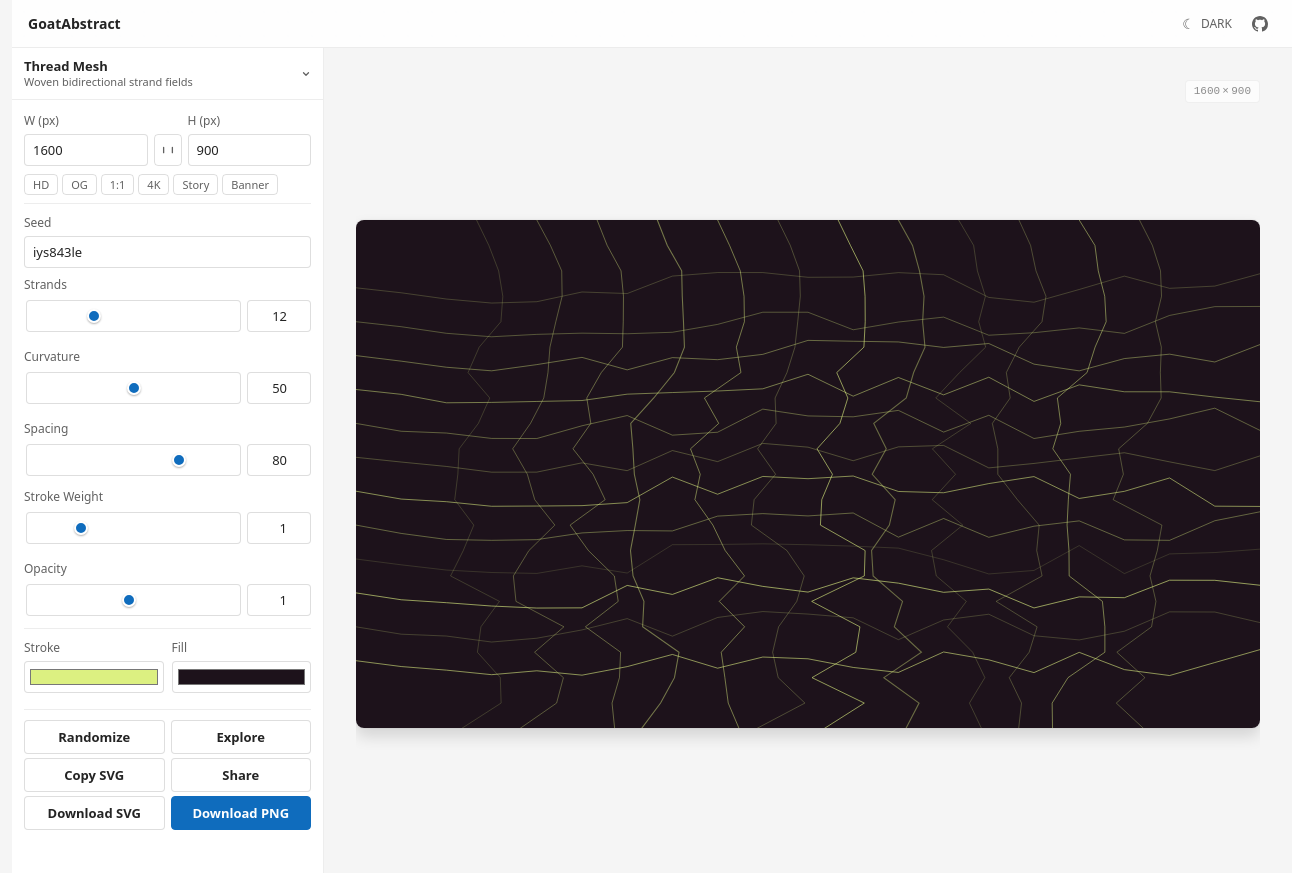
Test: App › switches mode via the dropdown menu
Step 1. Click the button with aria-label "art mode" → [168, 74], box [12,48,323,99]
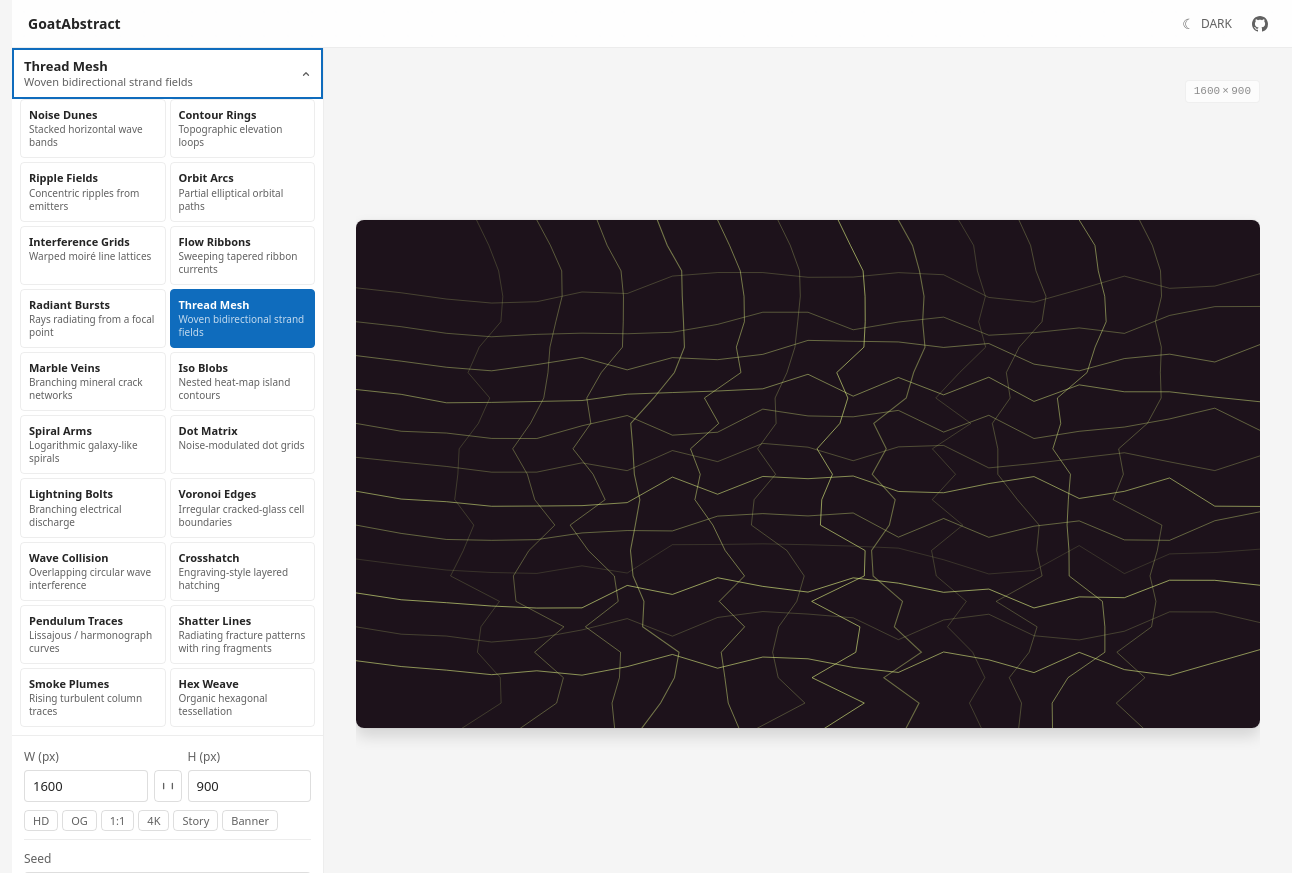
Step 2. Click the option "Contour Rings Topographic elevation loops" → [242, 129], box [170,99,315,158]
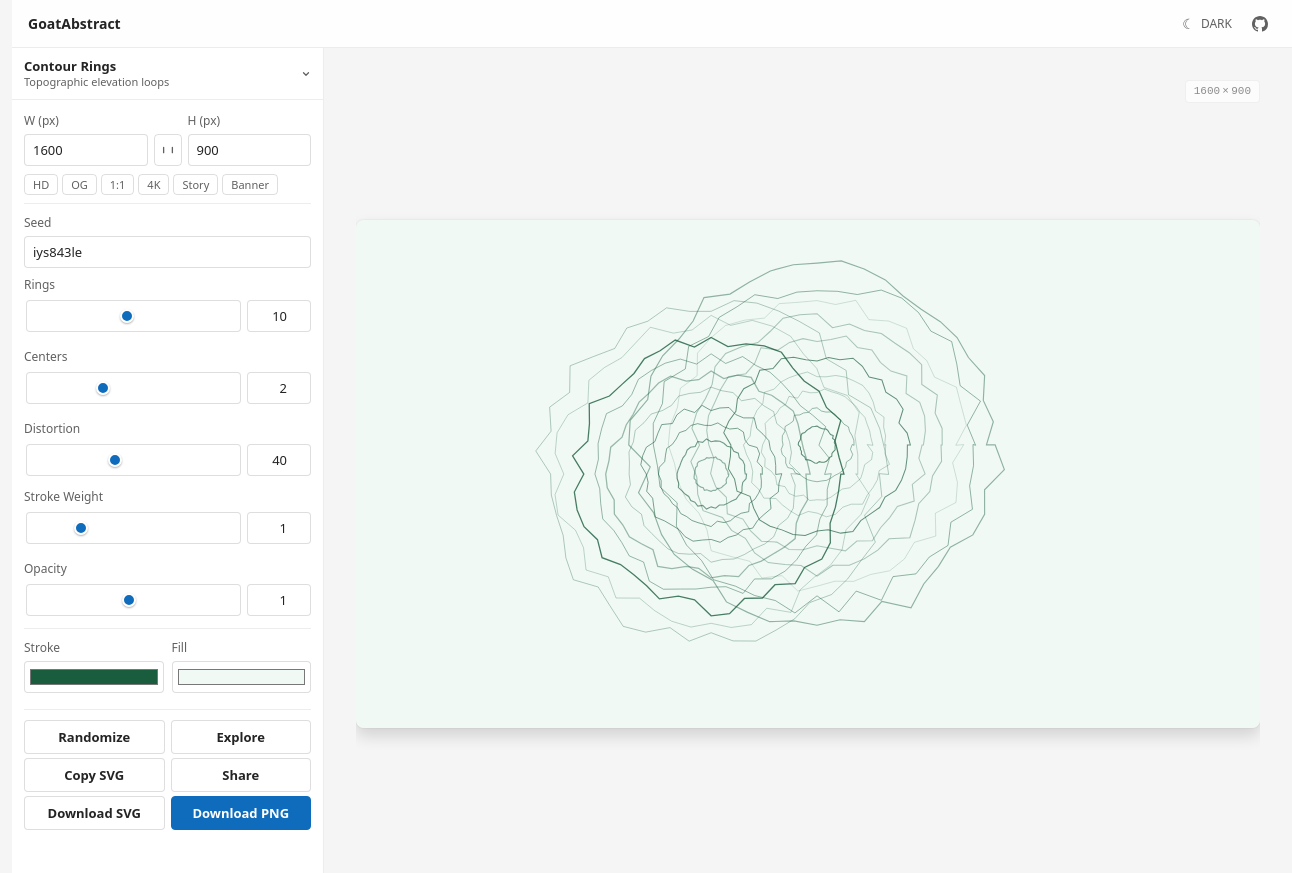
Check: the element titled "wave art preview" is shown, box [356,220,1260,728]
Check: the button with aria-label "art mode" shows "Contour Rings", box [12,48,323,99]
